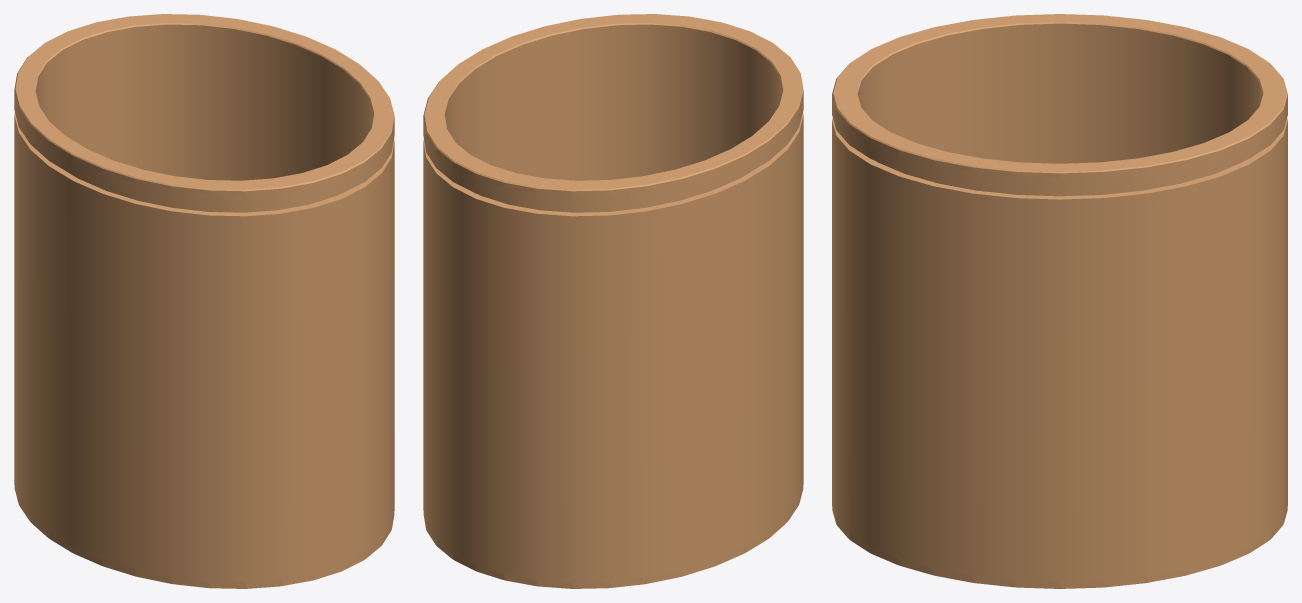
Rendered from Trashcan.fbx.
3 views of the same model, side by side, from view 1: azimuth 30°, elevation 25°; view 2: azimuth 150°, elevation 25°; view 3: azimuth 270°, elevation 25° (orthographic). The views are drawn at different scales.
Visible parts, largest first — view 1: trashcan:Mesh; view 2: trashcan:Mesh; view 3: trashcan:Mesh.
Part boxes in pixels (x1,y1,x2,y2): trashcan:Mesh: (14, 14, 394, 588); trashcan:Mesh: (423, 14, 803, 588); trashcan:Mesh: (832, 14, 1287, 588).
Size of the model in its own units: 1.65 by 2.02 by 2.
